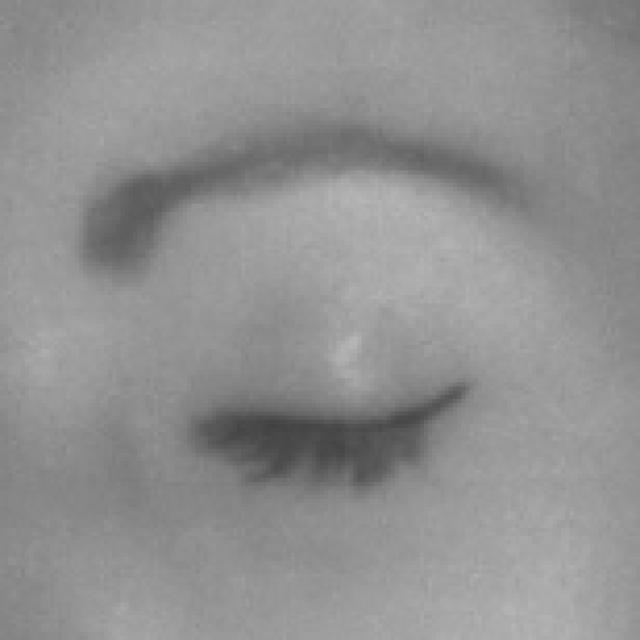Eyeclosed: (196, 298, 474, 553)
